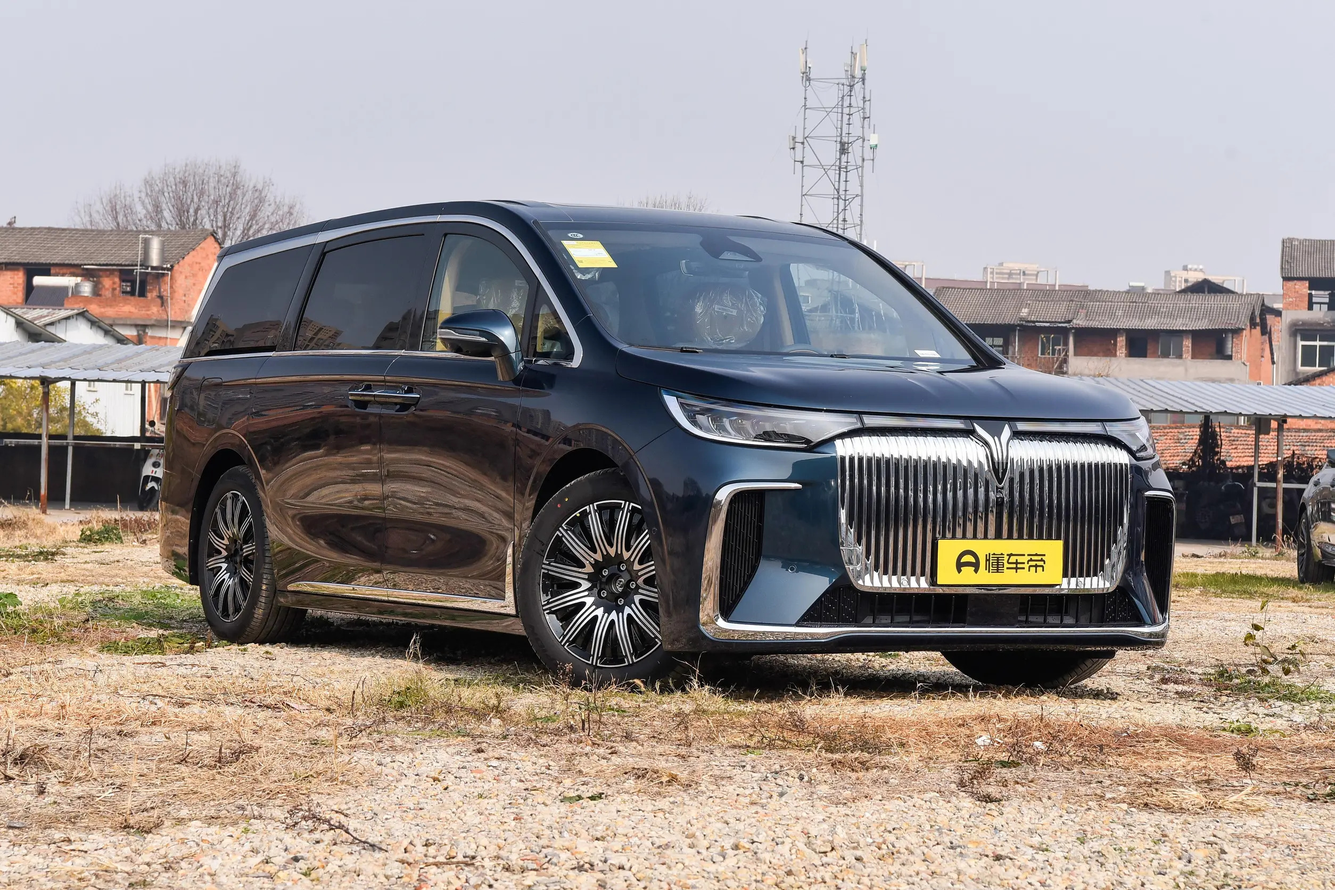VOYAH: (974, 423, 1010, 478)
